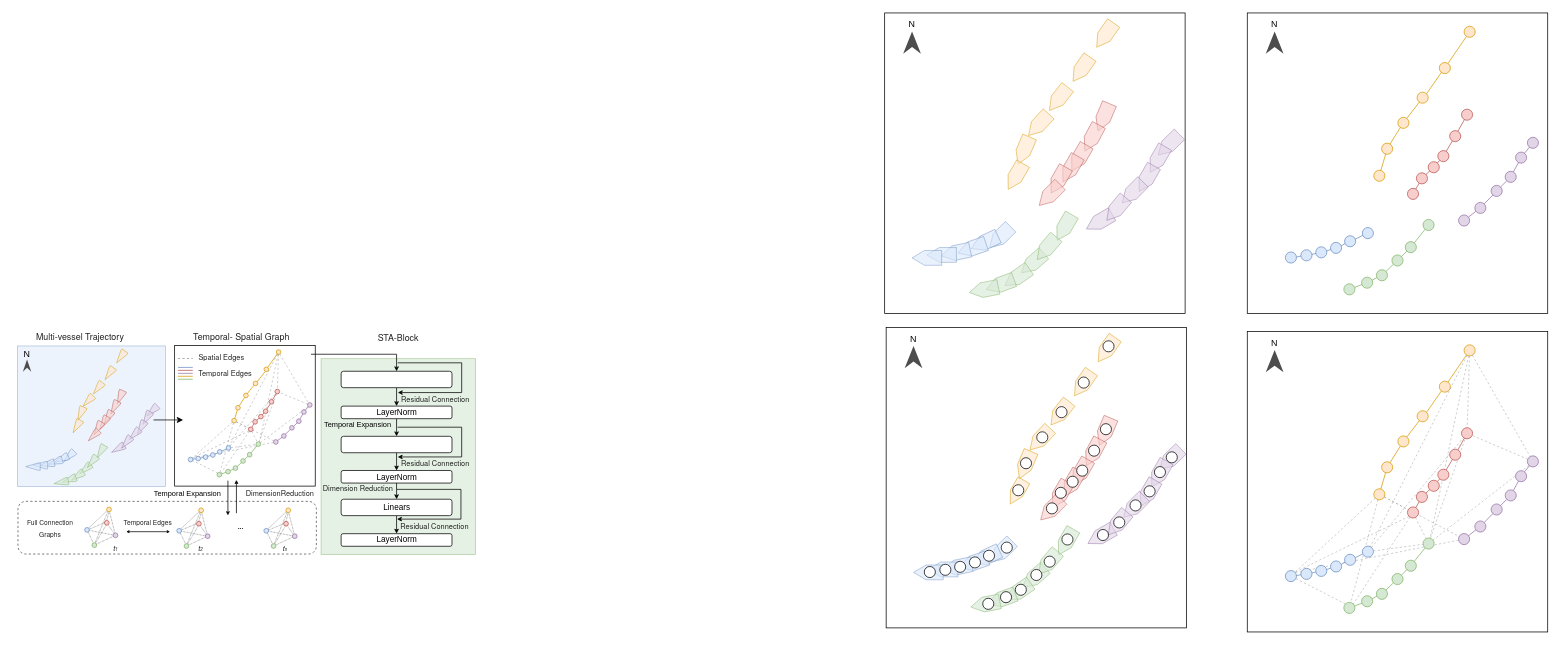
Image size: 1561x645. Some labels were removed from this diagram. Here are the shapes that lost their labels. From the top down, the centre of each, then its label:
the point at 396,379: GCNConv
the point at 396,444: Self-Attention
